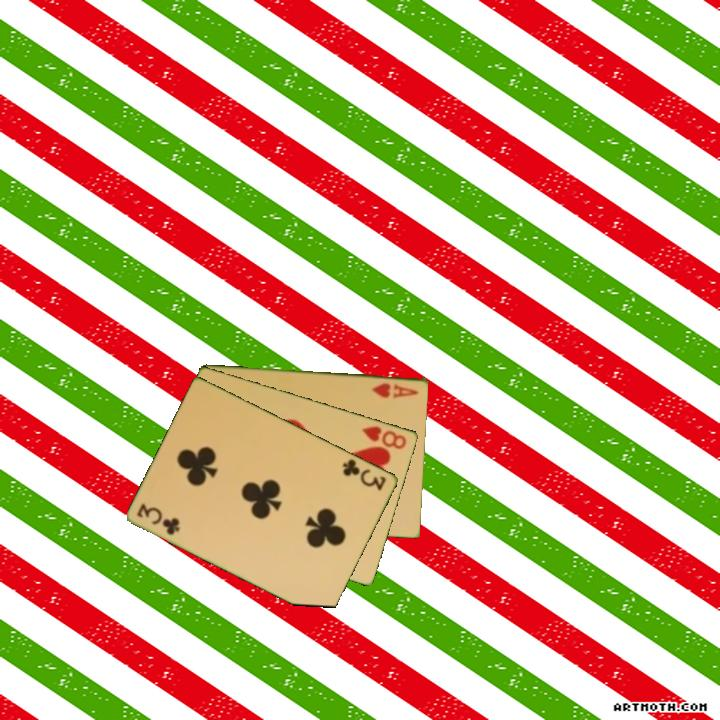3c: (339, 455, 390, 493), (134, 500, 183, 538)
8h: (359, 422, 410, 452)
Ah: (368, 379, 421, 401)
